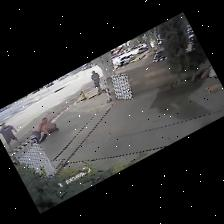person: (0, 124, 20, 149), (40, 118, 58, 142), (32, 118, 46, 140), (91, 72, 100, 91)
